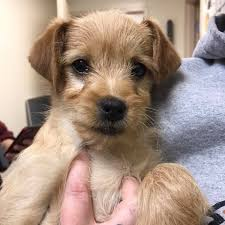dog: (33, 10, 176, 150)
